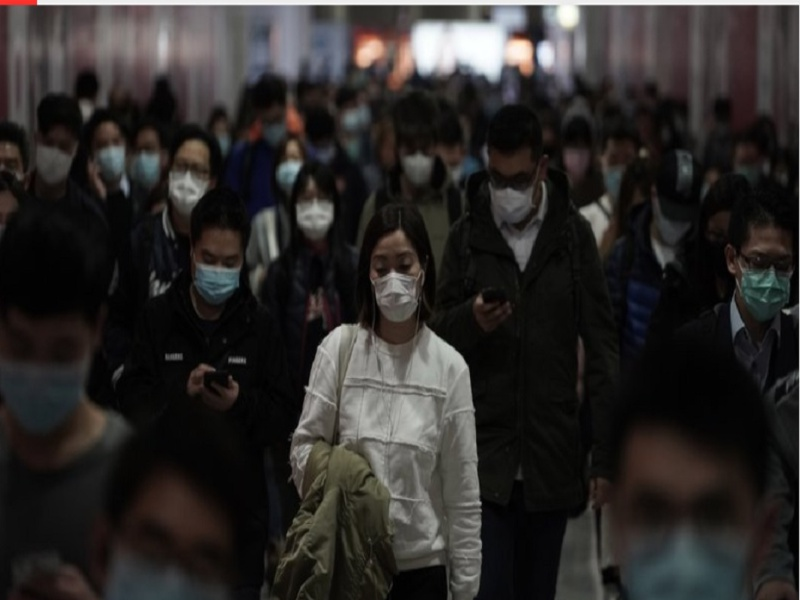ManaoArotava: (184, 192, 254, 321), (483, 117, 554, 243), (732, 199, 794, 341), (362, 212, 433, 333), (289, 160, 344, 256)
